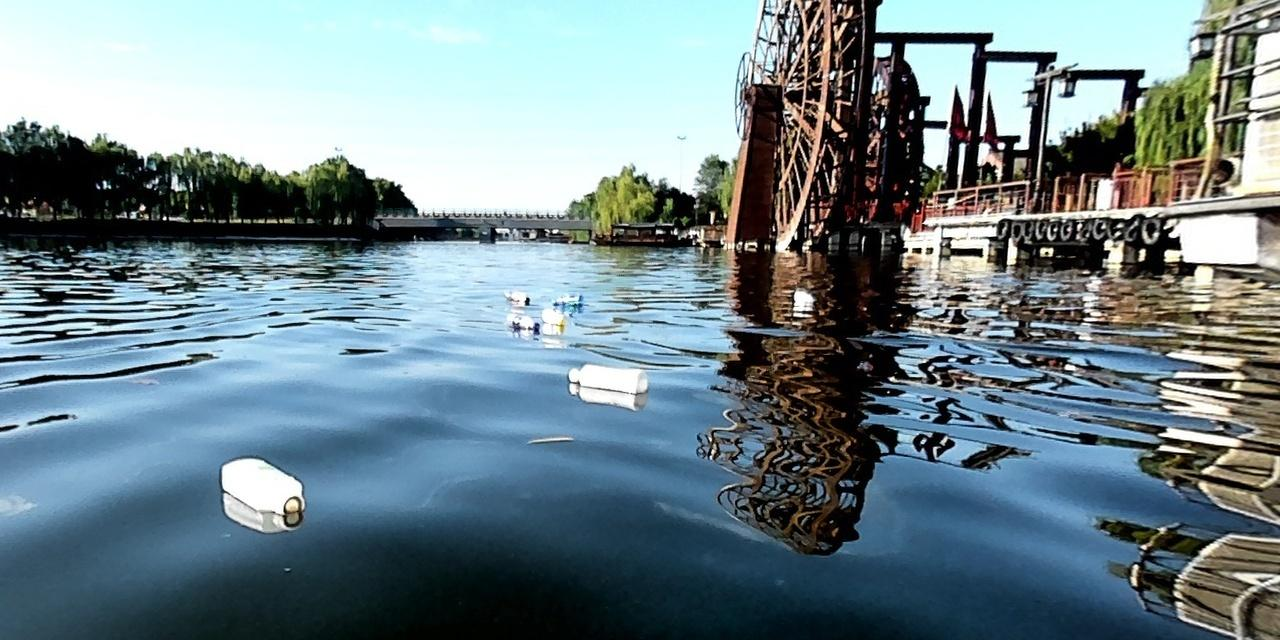bottle: (216, 450, 305, 516), (563, 360, 649, 394), (504, 308, 541, 331), (539, 303, 567, 326), (549, 290, 586, 305), (500, 286, 530, 303)
